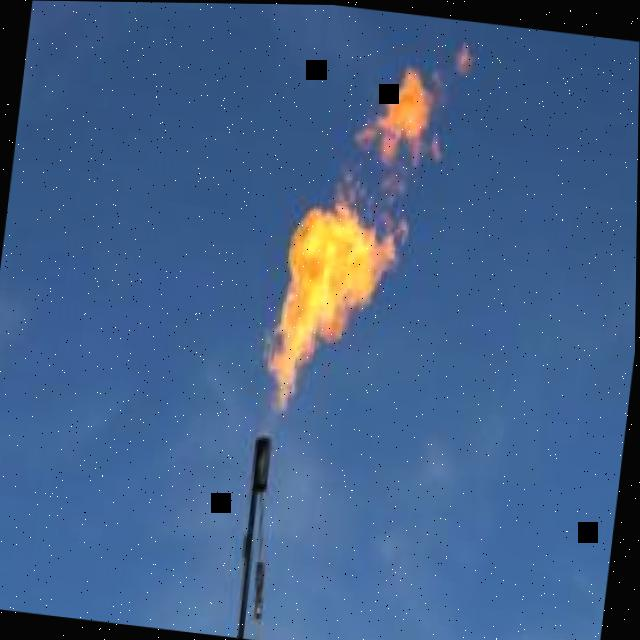fire: (266, 176, 410, 421), (355, 66, 439, 166)
